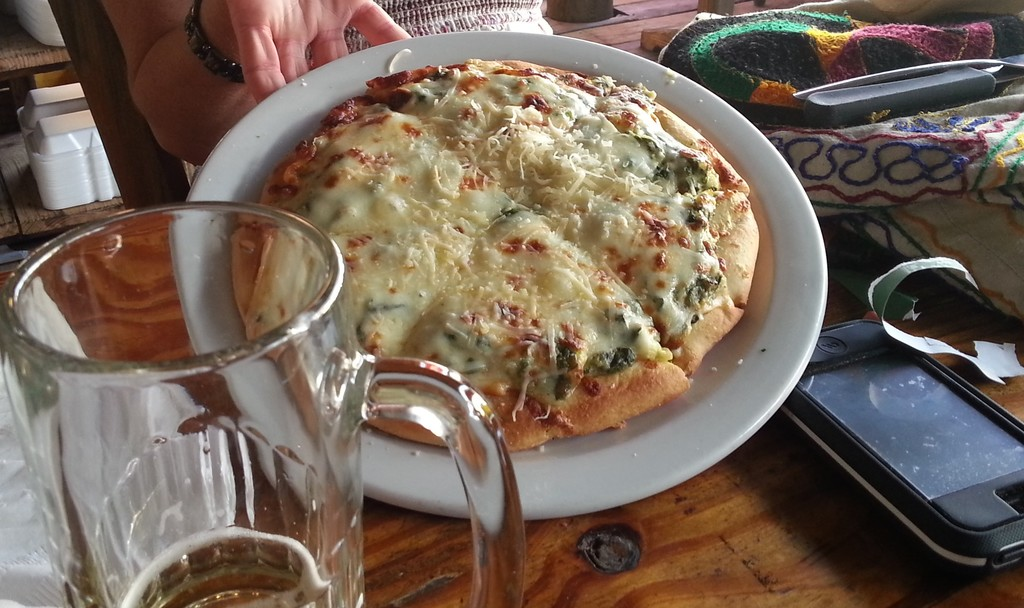Pizza: (222, 54, 762, 445)
